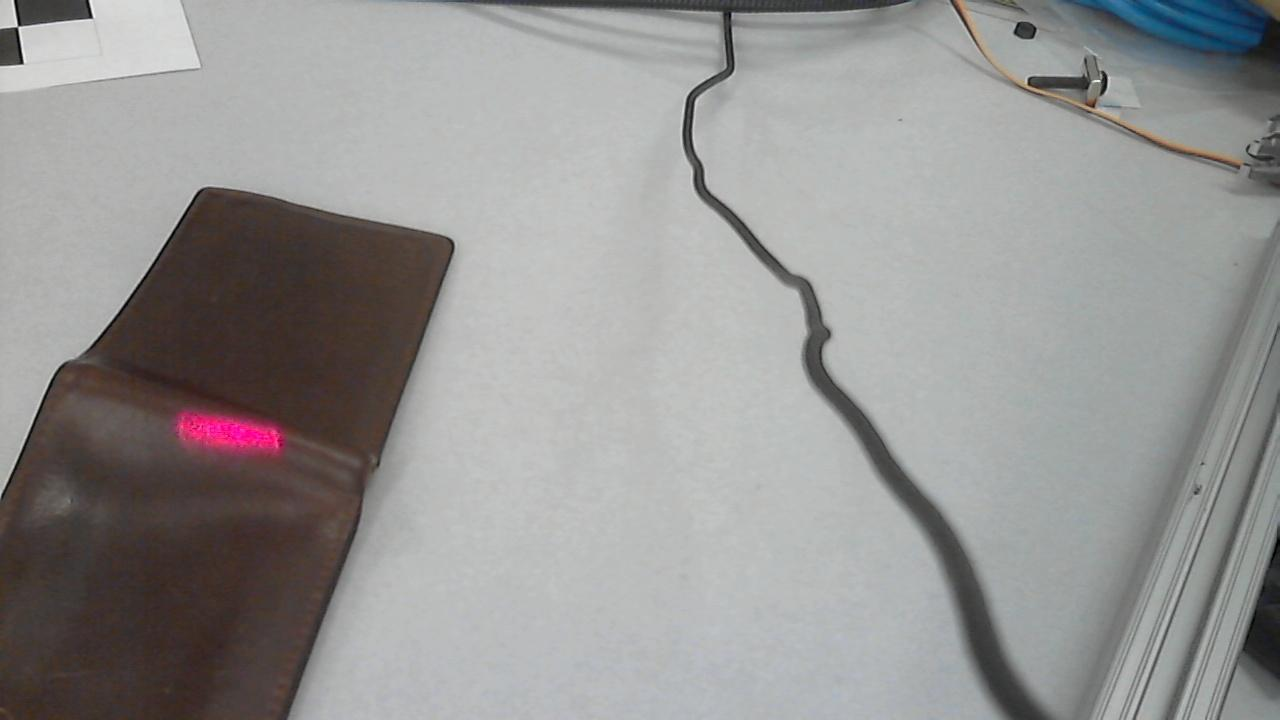Object bifold wallet - Material leather - Pdfname qb3CMu4EyzEc: (139, 382, 311, 494)
